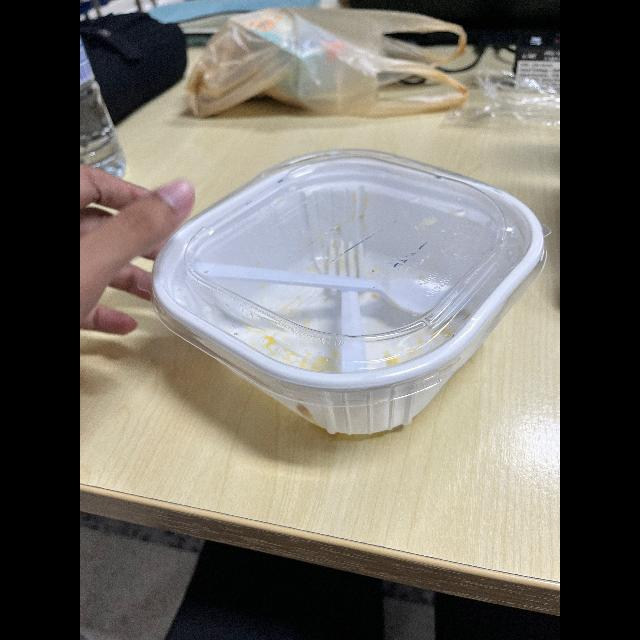plastic_box: (152, 138, 554, 458)
